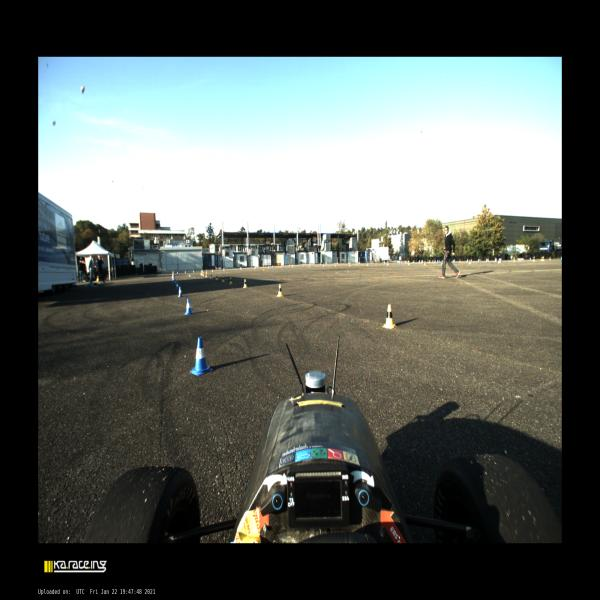blue_cone: (190, 337, 213, 376), (184, 298, 194, 315), (177, 287, 184, 297), (175, 282, 179, 290), (172, 277, 175, 282), (174, 279, 176, 285), (485, 258, 488, 262), (494, 258, 497, 262), (466, 259, 468, 263), (500, 258, 502, 262), (349, 262, 351, 265), (185, 270, 186, 274), (193, 270, 195, 272), (272, 264, 273, 268), (371, 262, 373, 264), (434, 260, 436, 262), (453, 260, 455, 262), (561, 256, 562, 260), (397, 261, 399, 263), (177, 272, 178, 275), (304, 263, 305, 266), (320, 263, 321, 266), (359, 262, 360, 265), (384, 261, 385, 264), (399, 261, 400, 264), (422, 260, 423, 263), (437, 260, 438, 263), (478, 259, 479, 262), (471, 259, 472, 262), (401, 261, 402, 263), (439, 260, 440, 262), (530, 258, 531, 260), (290, 264, 290, 267), (406, 260, 406, 263), (334, 263, 334, 265)
large_orange_cone: (201, 269, 203, 275), (172, 270, 173, 277)
orange_cone: (106, 274, 108, 278)
yellow_cone: (382, 304, 395, 329), (276, 284, 284, 297), (243, 279, 248, 288), (229, 277, 233, 284), (222, 276, 225, 282), (498, 258, 501, 263), (533, 256, 535, 262), (210, 273, 212, 279), (206, 272, 208, 278), (542, 256, 544, 261), (469, 259, 471, 264), (216, 275, 218, 280), (541, 257, 543, 261), (513, 258, 515, 262), (441, 260, 443, 264), (424, 260, 426, 264), (408, 261, 410, 265), (366, 262, 368, 266), (202, 272, 204, 276), (200, 271, 202, 275), (549, 257, 551, 260), (432, 260, 434, 263), (280, 265, 282, 268), (240, 267, 242, 270), (97, 276, 98, 282), (349, 263, 351, 266), (488, 258, 489, 262), (206, 270, 208, 272), (223, 268, 225, 270), (254, 267, 256, 269), (460, 259, 461, 262), (429, 260, 430, 263), (419, 260, 420, 263), (413, 260, 414, 263), (387, 262, 388, 265), (323, 263, 324, 266), (309, 264, 310, 267), (292, 264, 293, 267), (212, 269, 213, 272), (335, 263, 336, 266), (268, 266, 269, 268)
